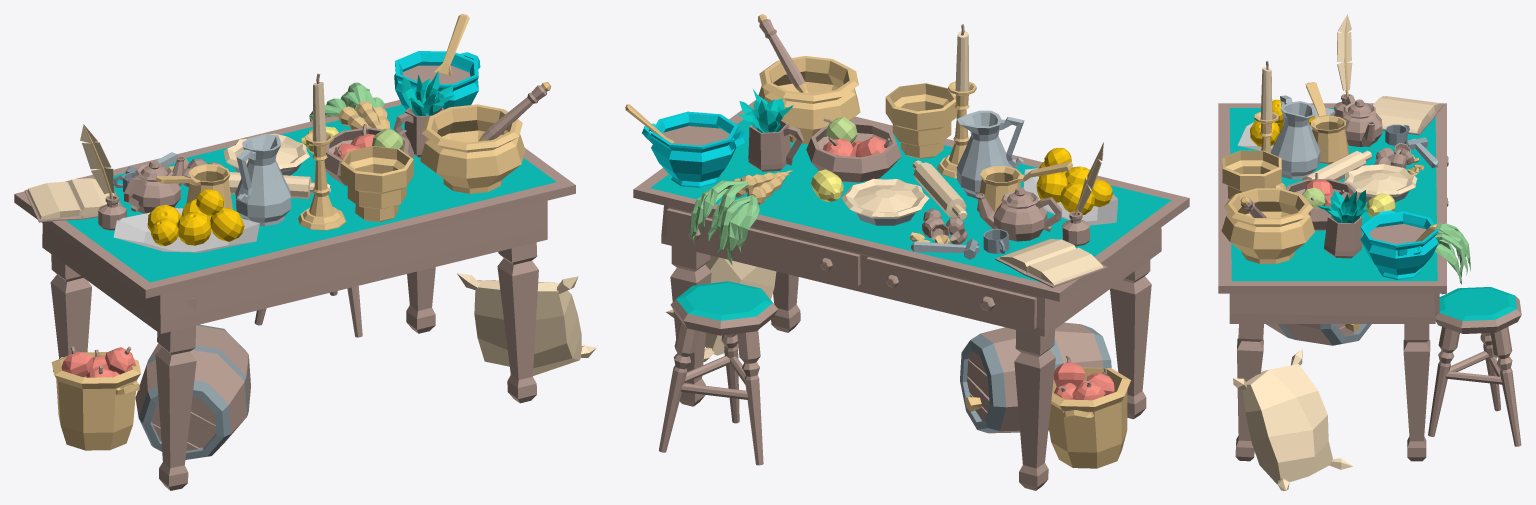
Rendered from mproduct_2.fbx.
3 renders of one model, left to right at view 1: azimuth 30°, elevation 25°; view 2: azimuth 150°, elevation 25°; view 3: azimuth 270°, elevation 25°, orthographic. The views are drawn at different scales.
Parts seen in each view (by area): view 1: mesh_1408092273, group_480967475, group_1778453459, group_1885818189, group_1514780482, group_436849853, mesh_1110464148, mesh_207404798, group_1135272312, group_150217312, group_717896419, mesh_1169867120 (+14 smaller); view 2: mesh_1408092273, group_2001912568, group_480967475, group_1778453459, group_717896419, group_1885818189, mesh_1169867120, group_1057983476, mesh_1110464148, group_1135272312, group_436849853, group_150217312 (+17 smaller); view 3: mesh_1408092273, group_1514780482, group_2001912568, group_1885818189, group_717896419, mesh_1155444155, group_150217312, group_1414039194, group_1135272312, mesh_207404798, group_1663536036, group_1151599306 (+13 smaller).
Boxes of the visible parts, x1,y1,x2,y2 form: mesh_1408092273: (14, 100, 575, 333); group_480967475: (135, 324, 250, 459); group_1778453459: (51, 346, 140, 450); group_1885818189: (420, 104, 525, 193); group_1514780482: (457, 273, 596, 375); group_436849853: (113, 189, 259, 252); mesh_1110464148: (155, 298, 196, 490); mesh_207404798: (497, 242, 538, 403); group_1135272312: (340, 146, 413, 222); group_150217312: (235, 134, 291, 226); group_717896419: (394, 14, 480, 109); mesh_1169867120: (50, 254, 91, 358); mesh_1408092273: (633, 100, 1189, 336); group_2001912568: (659, 281, 778, 465); group_480967475: (960, 322, 1111, 433); group_1778453459: (1048, 356, 1130, 468); group_717896419: (625, 104, 747, 187); group_1885818189: (758, 56, 860, 144); mesh_1169867120: (1014, 329, 1055, 490); group_1057983476: (806, 117, 901, 182); mesh_1110464148: (1110, 260, 1151, 419); group_1135272312: (885, 83, 957, 158); group_436849853: (1023, 148, 1118, 225); group_150217312: (956, 110, 1024, 198); mesh_1408092273: (1218, 103, 1446, 323); group_1514780482: (1233, 349, 1352, 490); group_2001912568: (1428, 287, 1521, 446); group_1885818189: (1221, 188, 1314, 263); group_717896419: (1360, 210, 1438, 279); mesh_1155444155: (1403, 324, 1430, 461); group_150217312: (1271, 95, 1320, 179); group_1414039194: (1317, 190, 1369, 258); group_1135272312: (1222, 150, 1281, 198); mesh_207404798: (1235, 324, 1263, 461); group_1663536036: (1343, 164, 1417, 202); group_1151599306: (1305, 82, 1348, 163).
Size of the model in its own units: 244 by 171 by 147.
